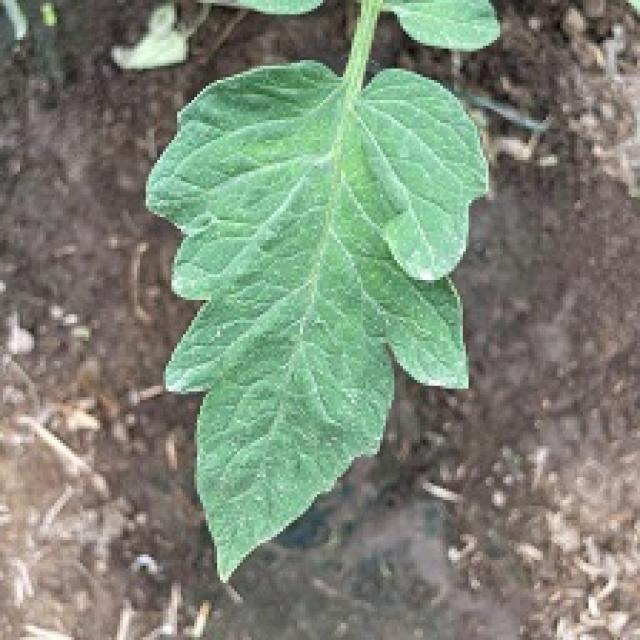Healthy: (133, 41, 529, 580)
